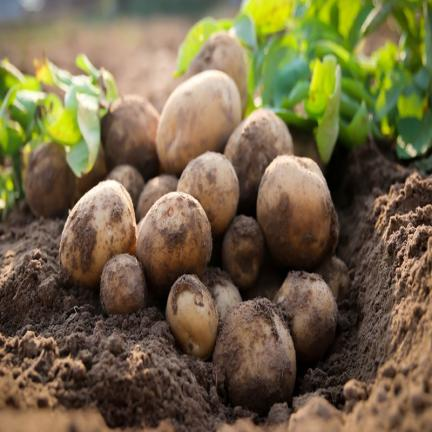potato: (213, 298, 295, 414), (257, 156, 338, 270), (157, 70, 240, 175), (60, 181, 136, 289), (137, 192, 212, 295), (225, 108, 293, 213), (24, 143, 106, 217), (274, 271, 337, 362), (178, 151, 239, 237), (101, 95, 159, 180), (188, 30, 247, 112), (166, 274, 218, 359), (222, 215, 264, 289), (100, 254, 146, 314), (201, 267, 241, 320), (136, 175, 178, 219), (242, 259, 285, 299), (315, 256, 350, 302), (106, 165, 144, 207)
